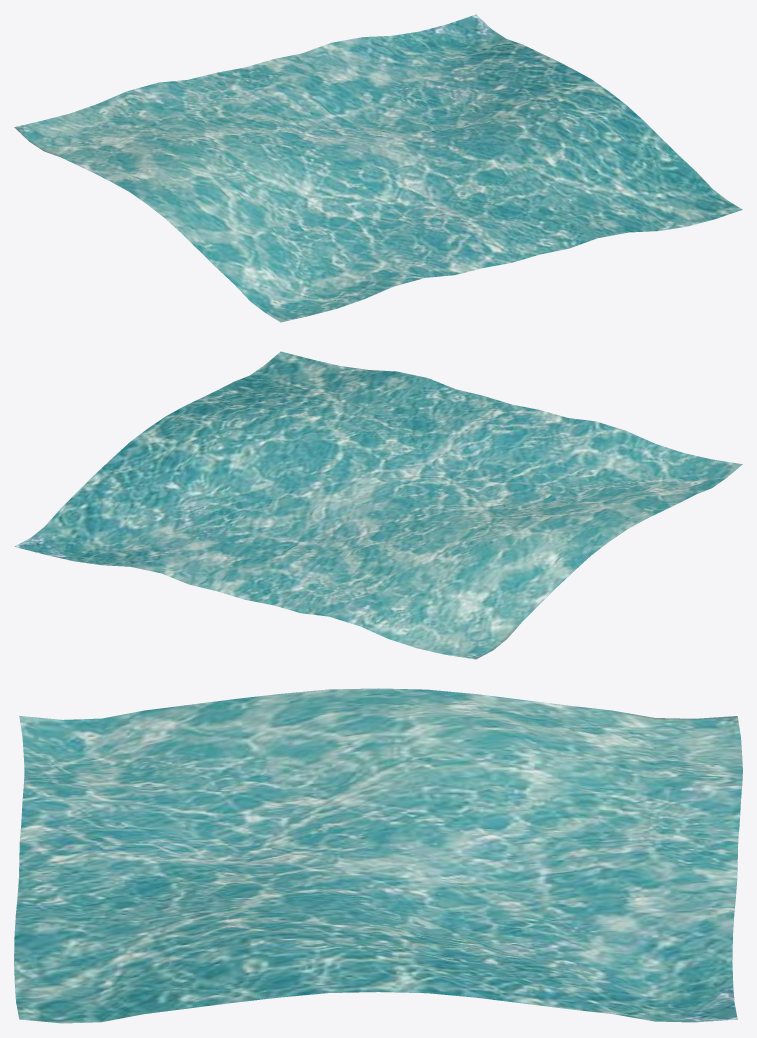
Rendered from water_000249.obj.
3 renders of one model, top to bottom at view 1: azimuth 30°, elevation 25°; view 2: azimuth 150°, elevation 25°; view 3: azimuth 270°, elevation 25°, orthographic. The views are drawn at different scales.
Visible parts, largest first — view 1: Plan.003_Plan.001; view 2: Plan.003_Plan.001; view 3: Plan.003_Plan.001.
Part boxes in pixels (x1,y1,x2,y2): Plan.003_Plan.001: (14,14,742,322); Plan.003_Plan.001: (14,351,742,659); Plan.003_Plan.001: (14,688,742,1023).
Size of the model in its own units: 60546 by 3960 by 61220.
